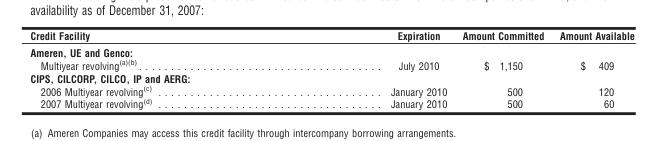table: (29, 28, 633, 110)
table column: (29, 28, 270, 110), (270, 28, 454, 110), (454, 28, 551, 110), (551, 28, 633, 110)
table column header: (29, 28, 633, 43)
table projected row header: (29, 43, 633, 57), (29, 71, 633, 83)
table row: (29, 28, 633, 43), (29, 43, 633, 57), (29, 57, 633, 71), (29, 96, 633, 110), (29, 83, 633, 96), (29, 71, 633, 83)
